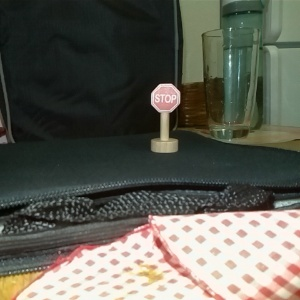stop sign: (148, 82, 181, 156)
